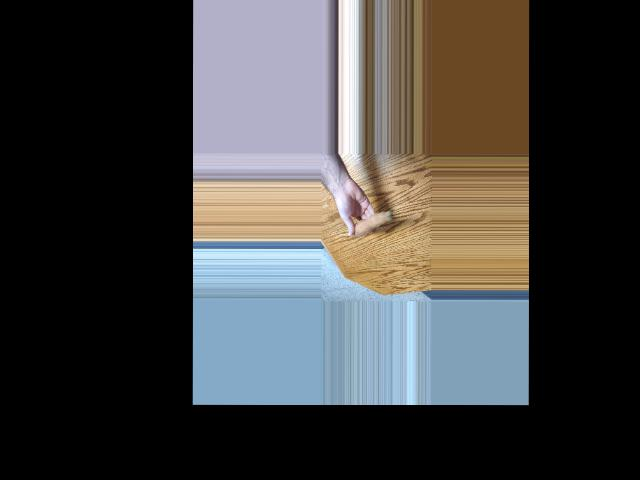sweet_potato: (349, 208, 391, 237)
